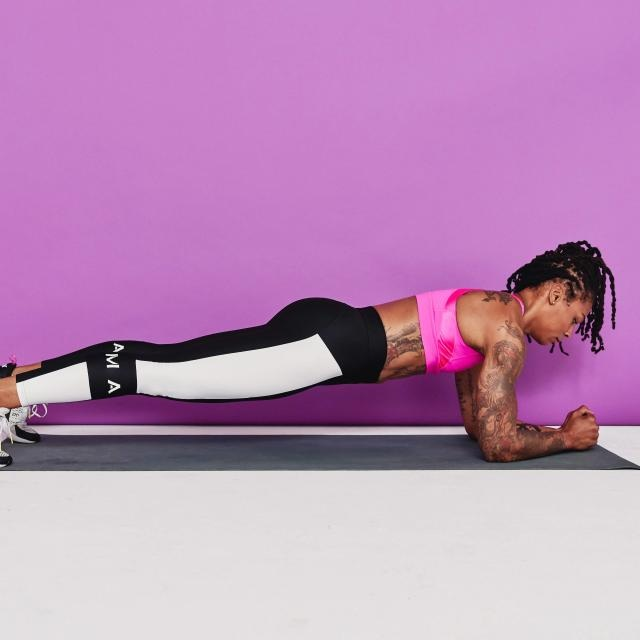plank: (0, 232, 623, 464)
